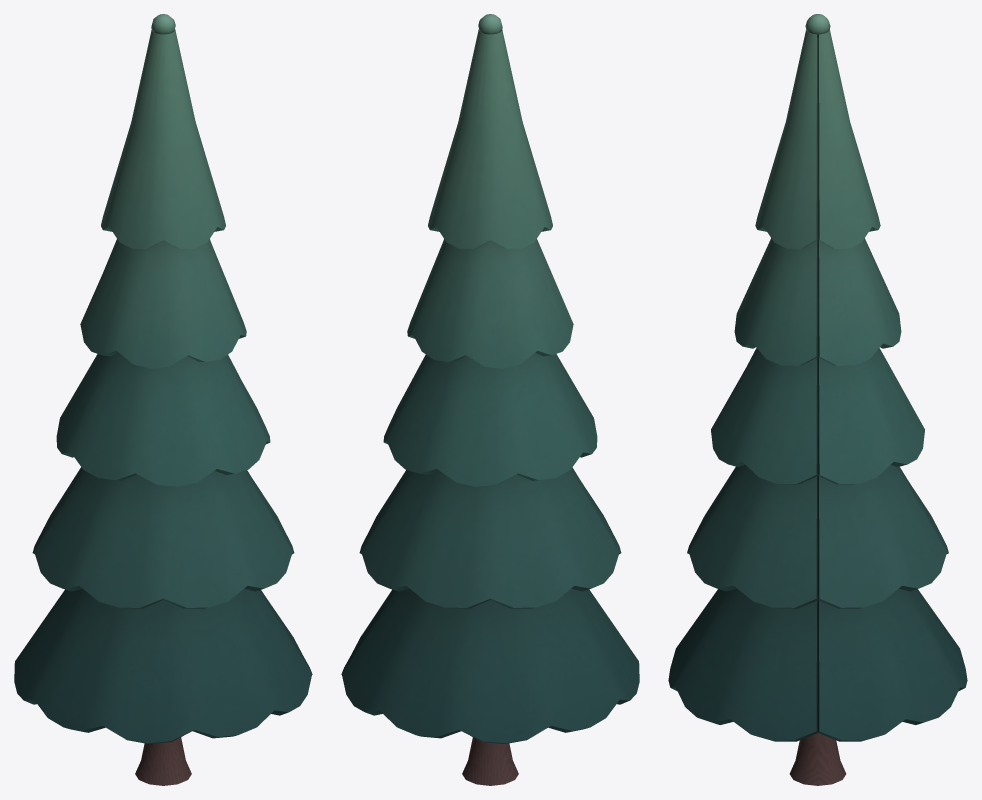
File: decor_pine.fbx
3 renders of one model, left to right at view 1: azimuth 30°, elevation 25°; view 2: azimuth 150°, elevation 25°; view 3: azimuth 270°, elevation 25°, orthographic.
Parts seen in each view (by area): view 1: decor_pine; view 2: decor_pine; view 3: decor_pine.
Boxes of the visible parts, box(x1,y1,x2,y2) form: decor_pine: box(14, 14, 312, 785); decor_pine: box(341, 14, 639, 785); decor_pine: box(668, 14, 967, 785).
Size of the model in its own units: 998 by 2797 by 999.
1 material, 1 textured.
